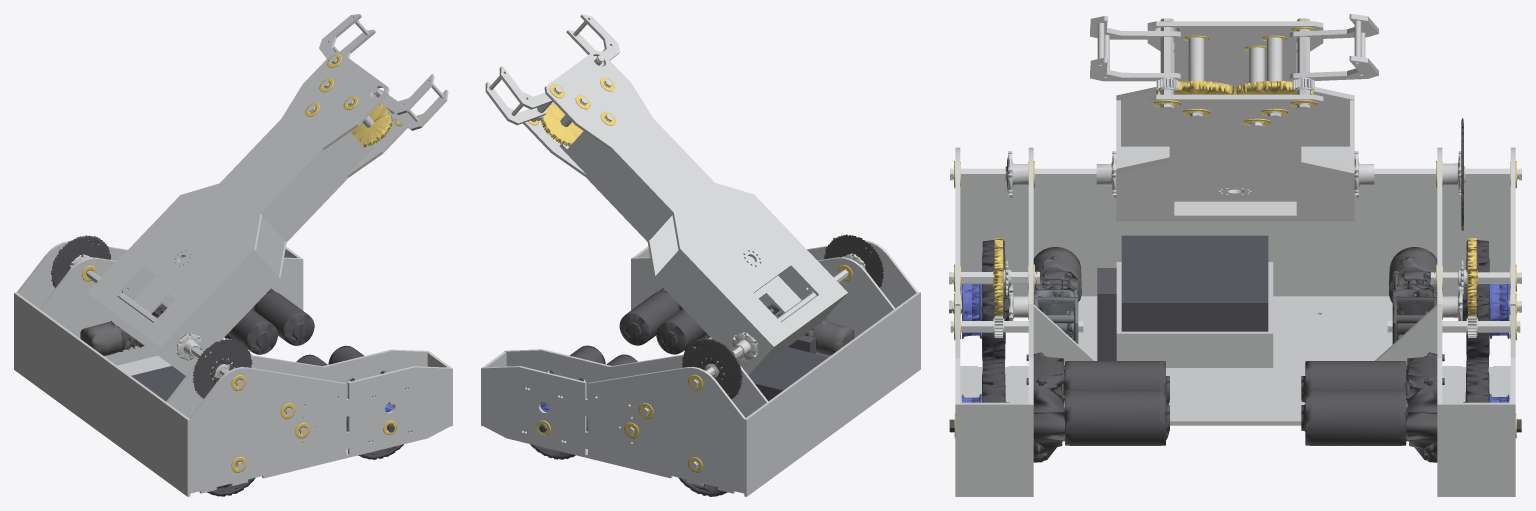
Rendered from axiom.glb.
3 views of the same model, side by side, from view 1: azimuth 30°, elevation 25°; view 2: azimuth 150°, elevation 25°; view 3: azimuth 270°, elevation 25° (orthographic). The views are drawn at different scales.
Parts seen in each view (by area): view 1: placas laterales chasis (×4), placa brazo sup inf (×2), placa frontal, placas laterales brazo (×2), placa frontal brazo2, Transmición CIM (×2), am-4786 62T 25 Chain 1125in Plate (×2), garra (×3), MAXPlanetary 2-Stage, battery, WCP-0172, placa posterior brazo (+3 smaller); view 2: placas laterales chasis (×4), placa brazo sup inf (×2), placa frontal, placas laterales brazo (×2), placa frontal brazo2, Transmición CIM (×2), am-4786 62T 25 Chain 1125in Plate (×2), battery, garra (×3), MAXPlanetary 2-Stage, WCP-0172, placa posterior brazo (+2 smaller); view 3: placa frontal, placa brazo sup inf (×2), Transmición CIM (×6), Bellypan, battery, placa posterior (×2), placas laterales chasis (×4), am-0940b 6 in HiGrip Wheel (×4), placa p caja pila, garra (×4), nervios (×2), WCP-0172 (×4) (+7 smaller).
Part boxes in pixels (x1,y1,x2,y2): placas laterales chasis (×4): [14, 241, 452, 496]; placa brazo sup inf (×2): [87, 51, 410, 375]; placa frontal: [14, 292, 190, 495]; placas laterales brazo (×2): [89, 195, 280, 372]; placa frontal brazo2: [259, 121, 374, 242]; Transmición CIM (×2): [227, 291, 314, 354]; am-4786 62T 25 Chain 1125in Plate (×2): [51, 235, 252, 398]; garra (×3): [319, 14, 448, 130]; MAXPlanetary 2-Stage: [80, 321, 122, 355]; battery: [131, 366, 185, 401]; WCP-0172: [351, 104, 393, 147]; placa posterior brazo: [88, 295, 186, 374]; placas laterales chasis (×4): [481, 240, 920, 496]; placa brazo sup inf (×2): [523, 50, 847, 375]; placa frontal: [744, 292, 920, 495]; placas laterales brazo (×2): [654, 194, 845, 372]; placa frontal brazo2: [559, 121, 674, 241]; Transmición CIM (×2): [619, 291, 706, 354]; am-4786 62T 25 Chain 1125in Plate (×2): [682, 234, 883, 399]; battery: [749, 347, 828, 401]; garra (×3): [485, 14, 619, 125]; MAXPlanetary 2-Stage: [812, 317, 854, 355]; WCP-0172: [540, 103, 583, 146]; placa posterior brazo: [747, 295, 845, 374]; placa frontal: [960, 180, 1510, 300]; placa brazo sup inf (×2): [1116, 21, 1354, 221]; Transmición CIM (×6): [1033, 352, 1437, 462]; Bellypan: [960, 296, 1510, 425]; battery: [1121, 235, 1268, 331]; placa posterior (×2): [955, 402, 1515, 496]; placas laterales chasis (×4): [955, 147, 1515, 496]; am-0940b 6 in HiGrip Wheel (×4): [982, 240, 1488, 402]; placa p caja pila: [1116, 331, 1273, 367]; garra (×4): [1090, 14, 1378, 81]; nervios (×2): [1028, 304, 1442, 407]; WCP-0172 (×4): [993, 80, 1477, 316].
Bounding box in the file's own units: 0.6581 × 0.6849 × 0.6511.
